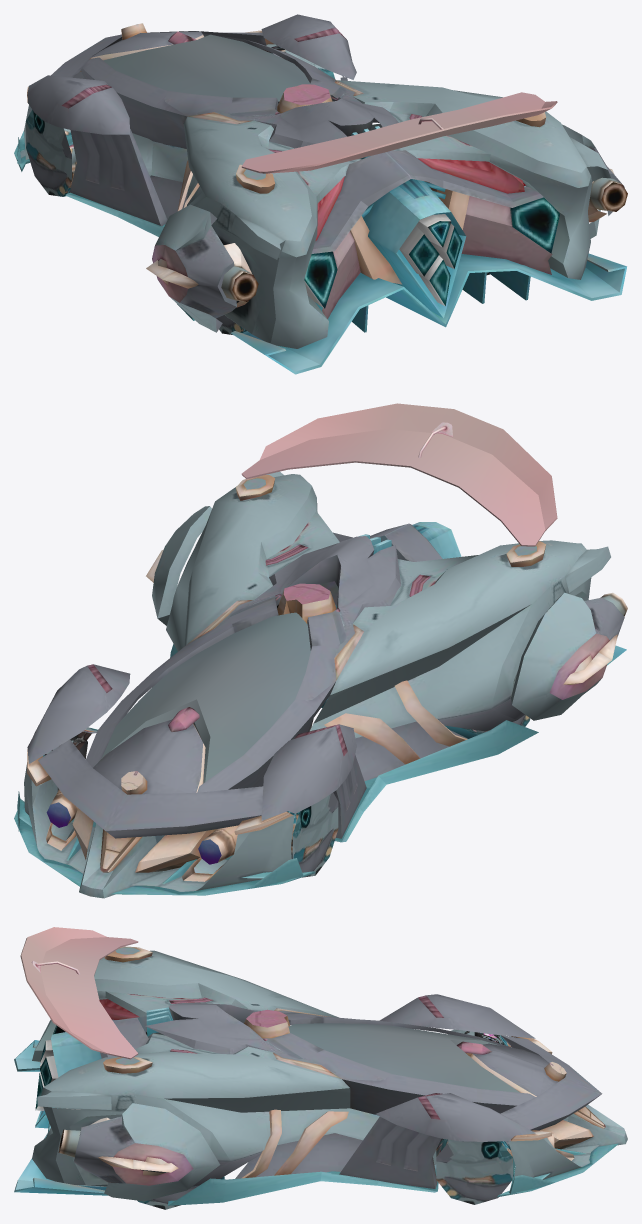
The picture shows the model from 3 angles, top to bottom: view 1: azimuth 30°, elevation 25°; view 2: azimuth 150°, elevation 25°; view 3: azimuth 270°, elevation 25°; orthographic projection. The views are drawn at different scales.
Visible parts, largest first — view 1: body; view 2: body; view 3: body.
Part boxes in pixels (x1,y1,x2,y2): body: (14, 14, 627, 374); body: (14, 403, 627, 898); body: (14, 927, 627, 1209).
Bounding box in the file's own units: 3.03 × 1.51 × 4.29.
Materials: 1 (1 with a texture image).
